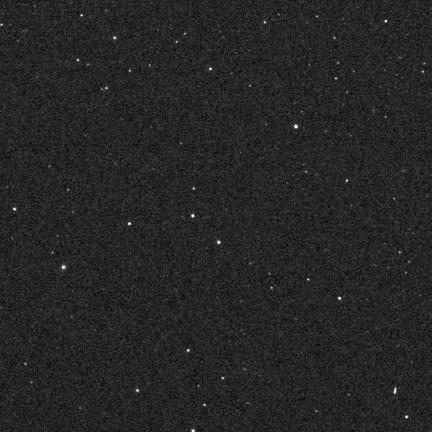blob: (128, 222, 131, 225), (295, 125, 298, 128), (217, 241, 220, 244), (192, 214, 194, 218)
